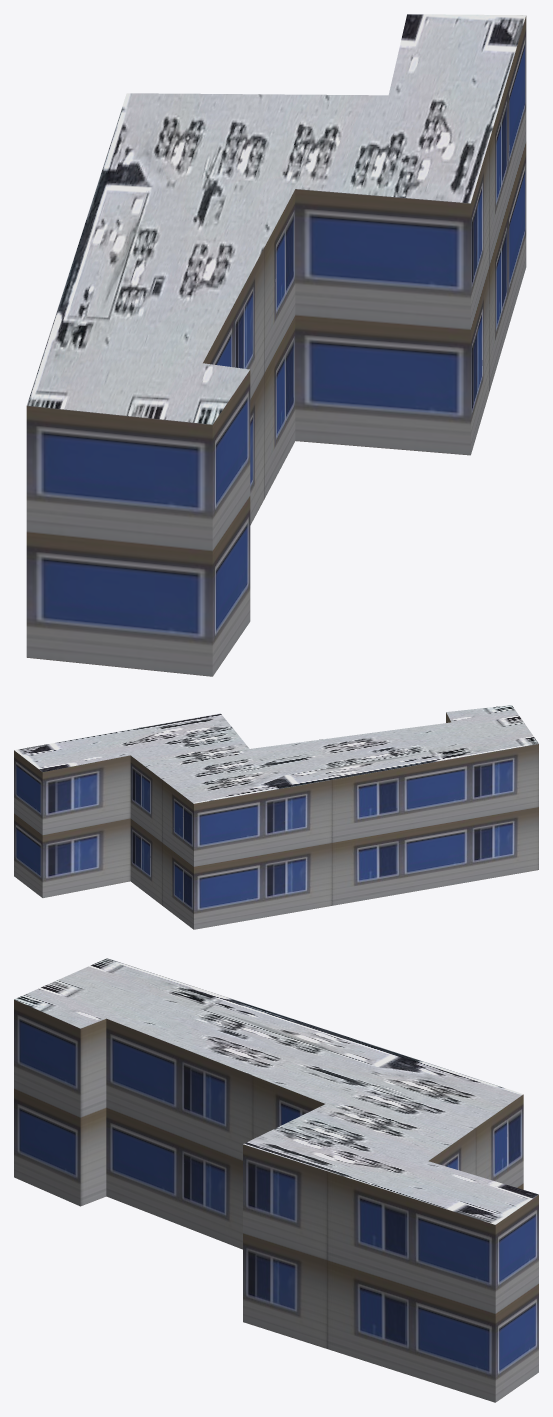
The model's file is ResTex__505.fbx.
3 views of the same model, one above another, from view 1: azimuth 30°, elevation 25°; view 2: azimuth 150°, elevation 25°; view 3: azimuth 270°, elevation 25° (orthographic). The views are drawn at different scales.
Parts seen in each view (by area): view 1: CityEngineMaterial_23_m, CityEngineMaterial_4_m; view 2: CityEngineMaterial_23_m, CityEngineMaterial_4_m; view 3: CityEngineMaterial_23_m, CityEngineMaterial_4_m.
Part boxes in pixels (x1=…): CityEngineMaterial_23_m: x1=26, y1=16, x2=526, y2=676; CityEngineMaterial_4_m: x1=27, y1=14, x2=525, y2=424; CityEngineMaterial_23_m: x1=14, y1=712, x2=538, y2=929; CityEngineMaterial_4_m: x1=14, y1=705, x2=538, y2=803; CityEngineMaterial_23_m: x1=14, y1=999, x2=538, y2=1402; CityEngineMaterial_4_m: x1=14, y1=958, x2=538, y2=1224.
Size of the model in its own units: 19.3 by 6 by 16.05.
2 materials, 2 textured.
